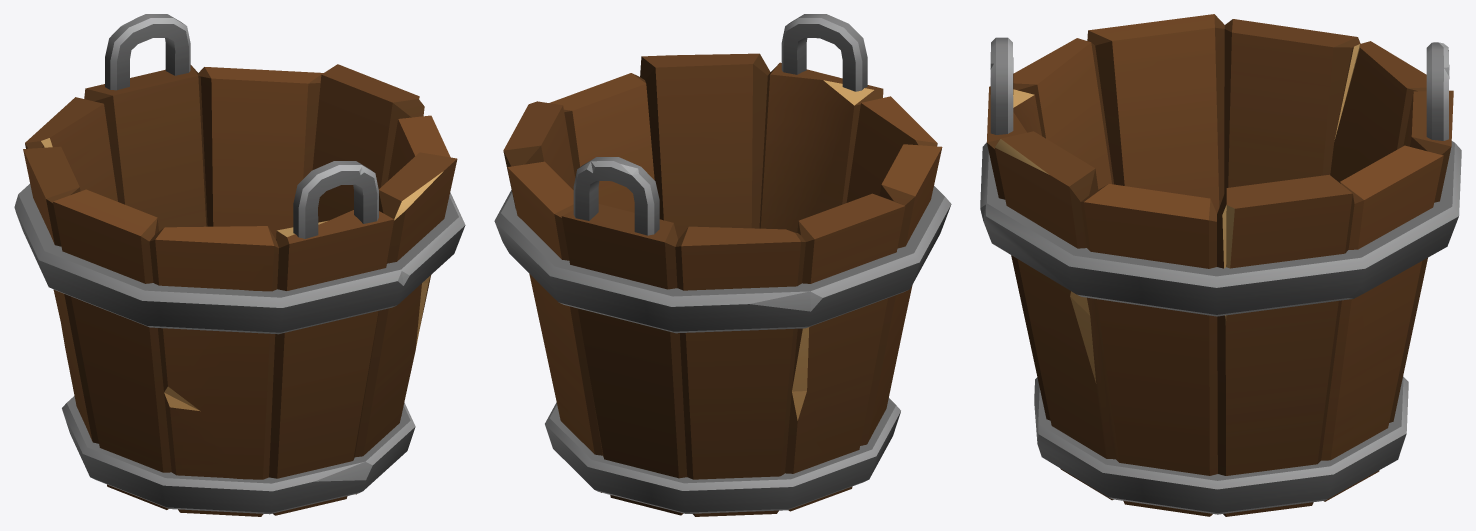
The model's file is Bucket_1_A.glb.
3 views of the same model, side by side, from view 1: azimuth 30°, elevation 25°; view 2: azimuth 150°, elevation 25°; view 3: azimuth 270°, elevation 25° (orthographic). The views are drawn at different scales.
Visible parts, largest first — view 1: Bucket_1_A; view 2: Bucket_1_A; view 3: Bucket_1_A.
Boxes of the visible parts, box(x1,y1,x2,y2) form: Bucket_1_A: box(14, 14, 465, 516); Bucket_1_A: box(494, 14, 951, 516); Bucket_1_A: box(980, 14, 1461, 516).
Bounding box in the file's own units: 0.4399 × 0.3849 × 0.4205.
2 materials, 2 textured.
